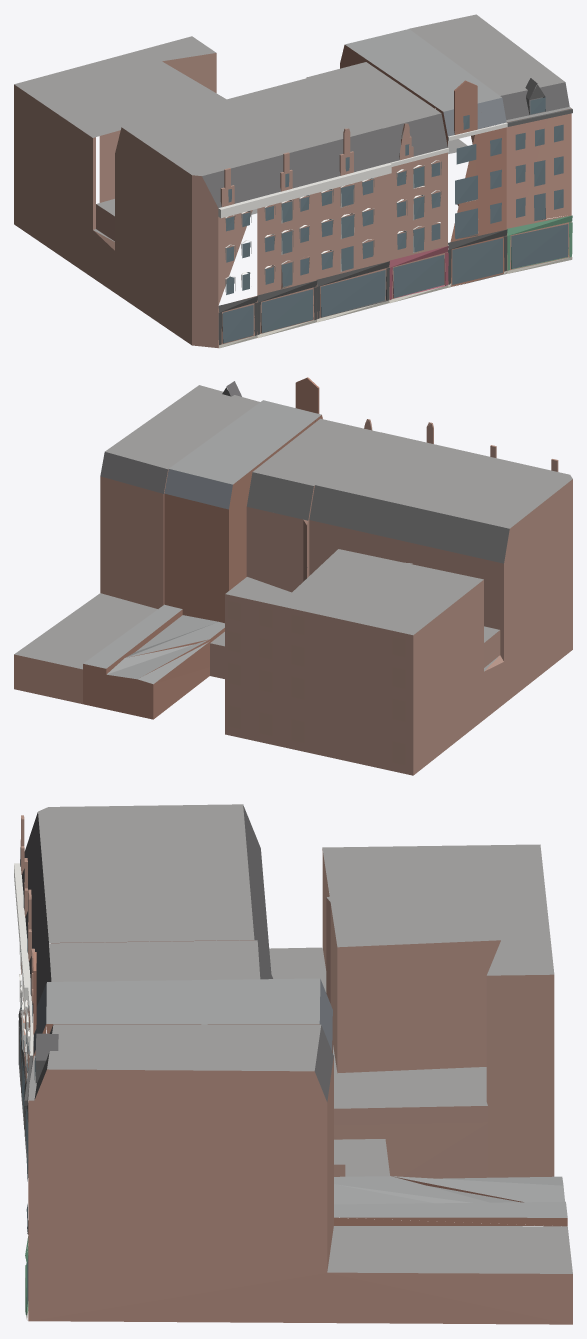
File: chunk-face-bilder-236189-166159.lod2.glb
3 views of the same model, one above another, from view 1: azimuth 30°, elevation 25°; view 2: azimuth 150°, elevation 25°; view 3: azimuth 270°, elevation 25° (orthographic). The views are drawn at different scales.
Visible parts, largest first — view 1: lod2; view 2: lod2; view 3: lod2.
Boxes of the visible parts, x1=… form: lod2: x1=14, y1=14, x2=572, y2=348; lod2: x1=14, y1=377, x2=572, y2=775; lod2: x1=14, y1=804, x2=572, y2=1324.
Size of the model in its own units: 37.88 by 18.92 by 32.46.
